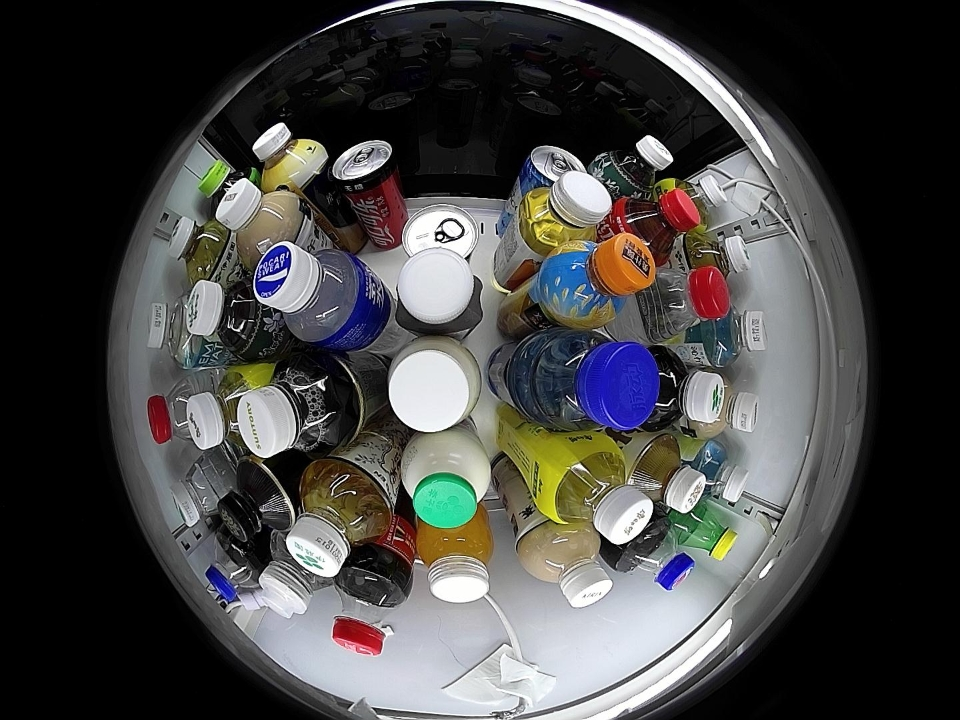asamu: (251, 122, 325, 188)
baicha: (286, 459, 394, 578), (165, 213, 232, 278), (687, 232, 752, 282)
baishikele-2: (616, 518, 694, 592), (205, 534, 261, 602)
baokuangli: (253, 242, 373, 349)
binghongcha: (613, 187, 701, 261)
bingtangxueli: (540, 437, 654, 546), (189, 367, 262, 453), (668, 173, 726, 229)
chapai2: (520, 170, 612, 251)
damaicha: (643, 347, 726, 431)
guolicheng: (543, 233, 656, 328)
jianjiao: (259, 535, 331, 619)
kele-b: (330, 566, 410, 657)
lingdukele: (331, 140, 399, 199)
liziyuan: (400, 429, 492, 529)
maidong: (532, 332, 659, 431)
moliqingcha: (186, 280, 274, 360), (600, 135, 674, 199)
nongfushanquan: (647, 267, 730, 341), (148, 372, 204, 443)
qingdaowangzi-2: (520, 145, 589, 189)
qinningshui: (149, 296, 208, 368), (701, 305, 768, 367), (690, 440, 750, 505)
rancha-1: (216, 459, 298, 543)
rancha-2: (627, 433, 707, 515)
weic: (416, 514, 494, 604)
wuhounaicha: (517, 522, 613, 608), (217, 178, 302, 265), (690, 372, 761, 437)
wulongcha: (238, 359, 345, 458)
xuebi-b: (677, 505, 738, 563)
yezhi: (402, 202, 480, 260)
yibao: (169, 456, 232, 527)
yitengyuan: (197, 160, 255, 213)
yousuanru: (387, 336, 482, 432)
youyanggudong: (394, 249, 483, 337)
